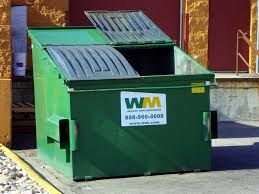Dumpster: (25, 8, 219, 185)
